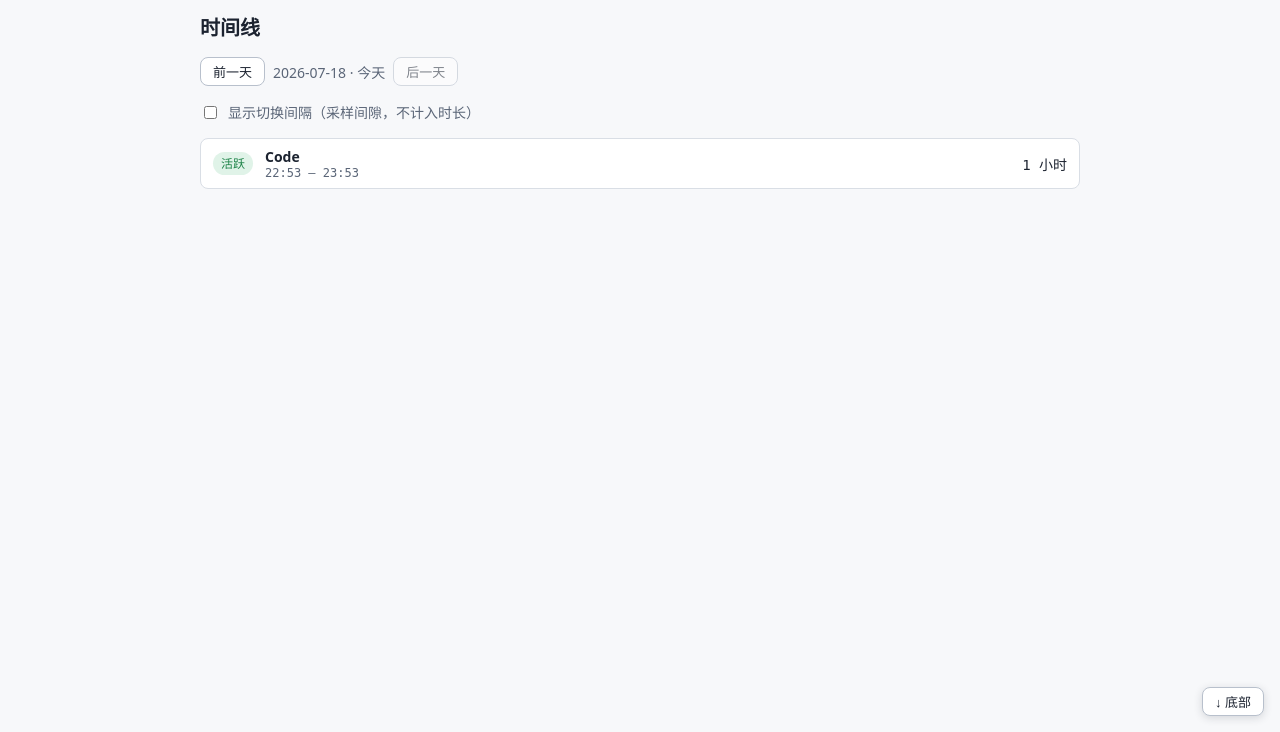
Test case: Timeline 页面 › 轮询 pending 时切换日期：新日期照常加载，迟到的旧响应不得覆盖新视图
The image size is (1280, 732).
Expected: the text "Code" is shown, [265,147,300,166]
Click the button "前一天" at point(232, 72), box [200,57,265,86]
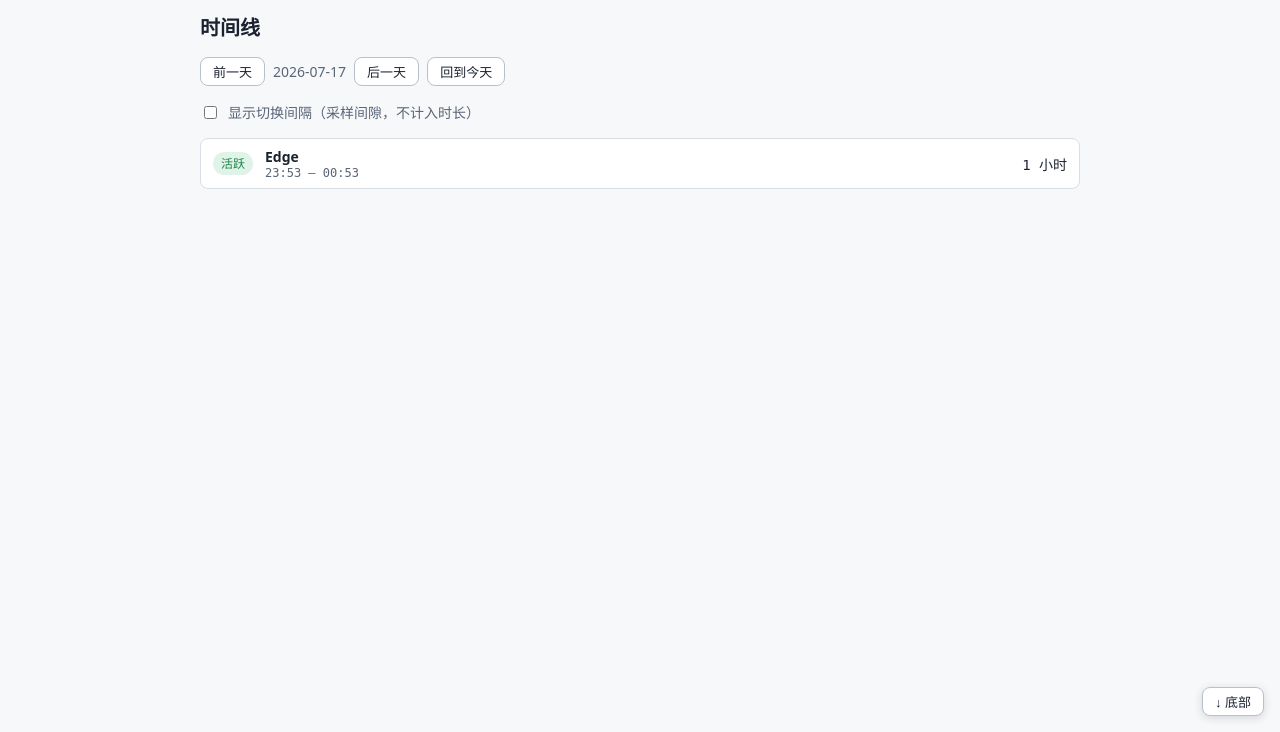
Expected: the text "Edge" is shown, [265,147,299,166]
Expected: the text "Code" is gone
Expected: the text "2026-07-17" is shown, [273,62,346,81]
